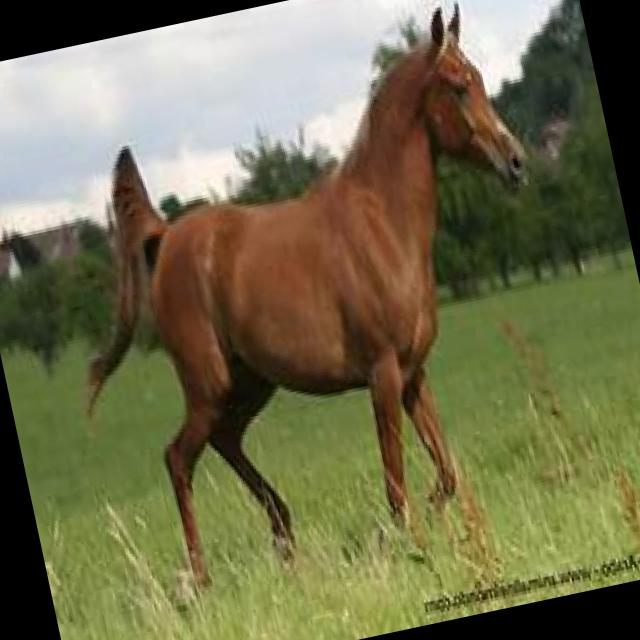animal: (18, 0, 612, 640)
